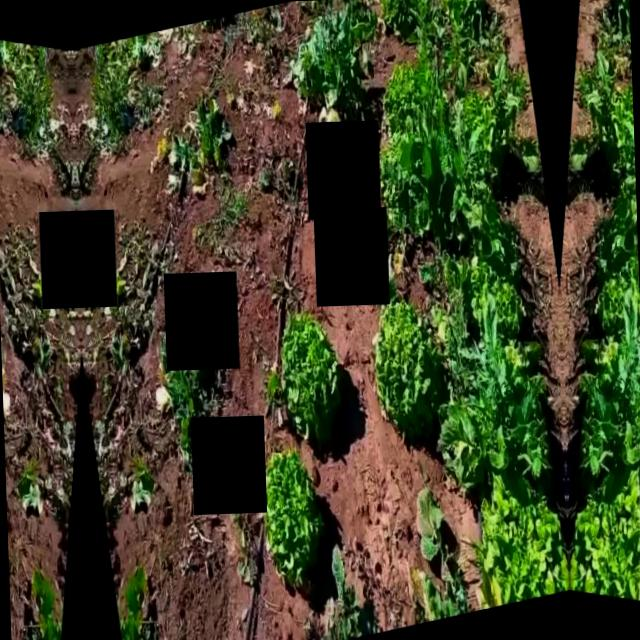healthy: (470, 468, 570, 608), (566, 465, 640, 604), (370, 298, 441, 437), (280, 308, 346, 452), (262, 448, 326, 594), (282, 4, 368, 110), (448, 256, 526, 336), (386, 57, 452, 144), (593, 253, 640, 330), (448, 86, 496, 152), (442, 0, 497, 45), (383, 0, 438, 43), (611, 82, 634, 147), (602, 0, 630, 40)
